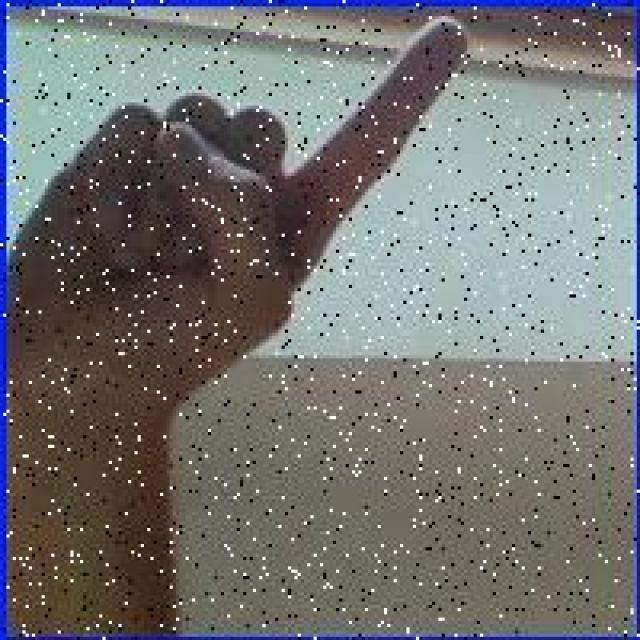Z: (9, 13, 473, 400)
